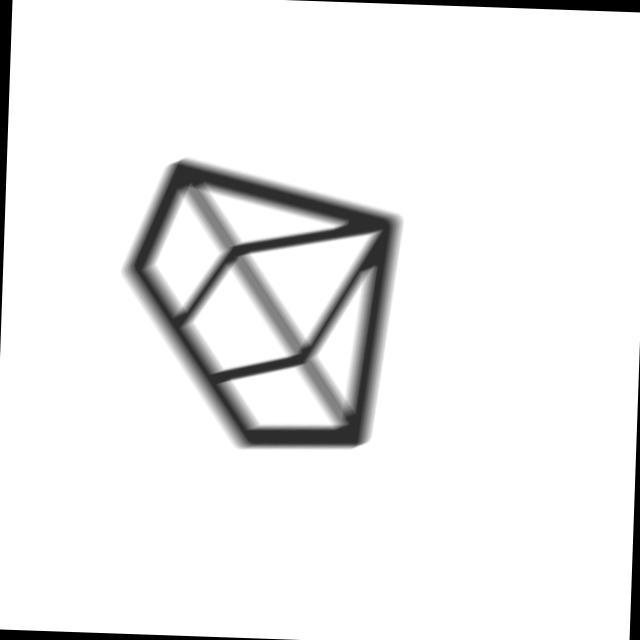diamond: (109, 149, 413, 463)
